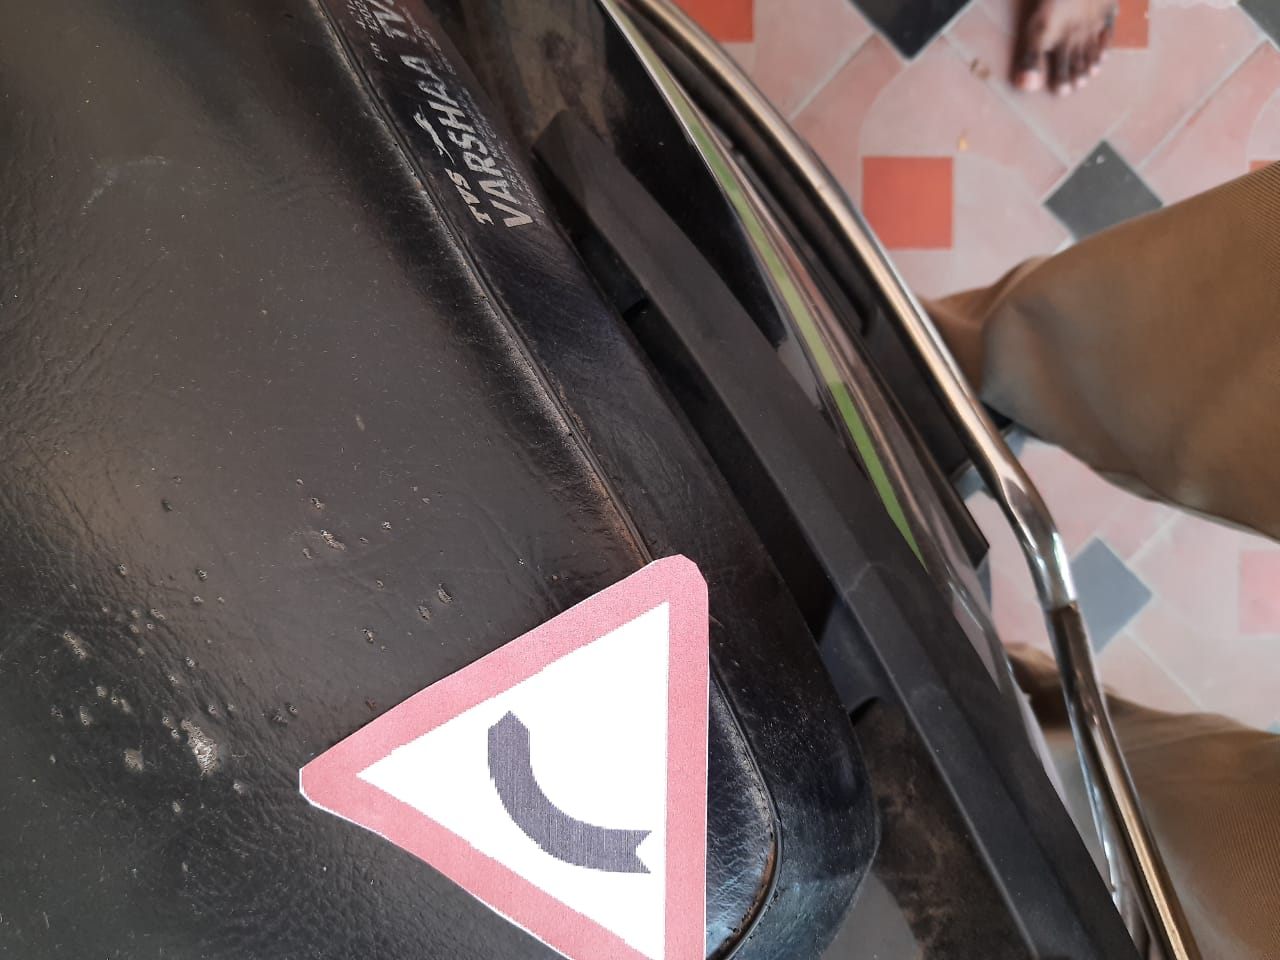RIGHT CURVE: (276, 520, 747, 960)
